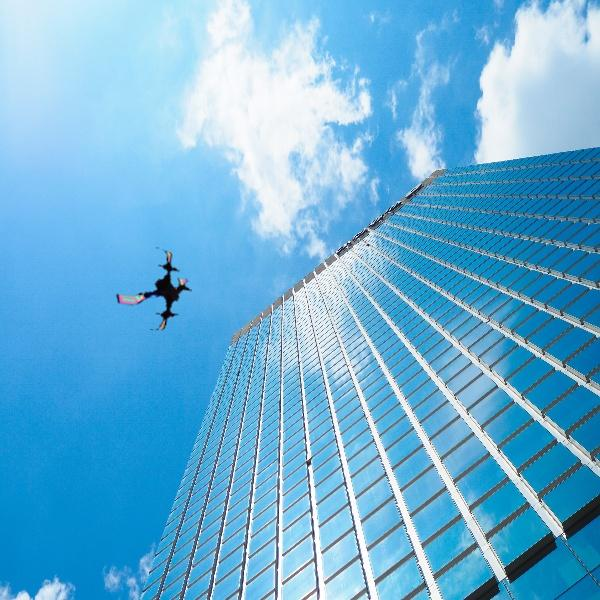drone: (111, 245, 198, 332)
